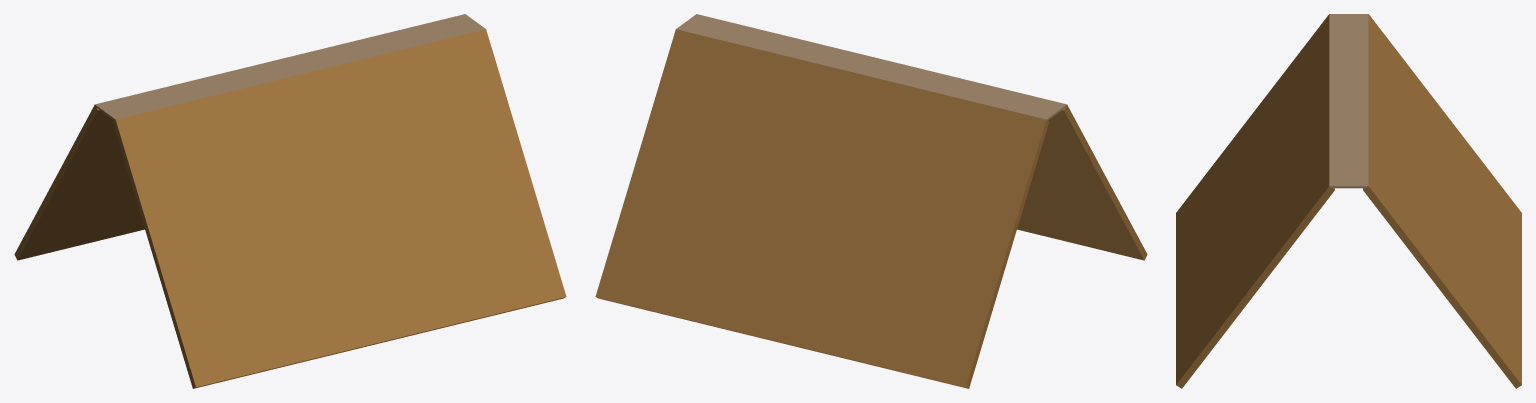
The model's file is SP_House02_Roof01.fbx.
3 views of the same model, side by side, from view 1: azimuth 30°, elevation 25°; view 2: azimuth 150°, elevation 25°; view 3: azimuth 270°, elevation 25° (orthographic). The views are drawn at different scales.
Visible parts, largest first — view 1: SP_House02_Roof01; view 2: SP_House02_Roof01; view 3: SP_House02_Roof01.
Part boxes in pixels (bbox=[...]): SP_House02_Roof01: bbox=[14, 14, 566, 388]; SP_House02_Roof01: bbox=[595, 14, 1147, 388]; SP_House02_Roof01: bbox=[1176, 14, 1521, 388].
Bounding box in the file's own units: 11.19 × 6.14 × 9.5.
